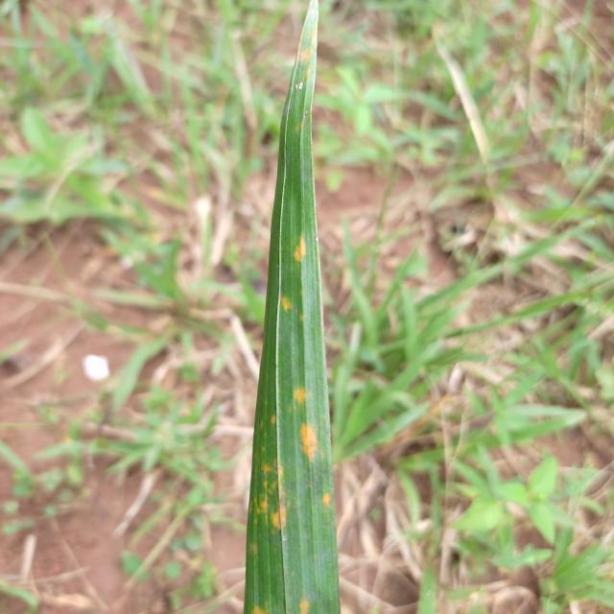Kalium: (243, 0, 339, 614)
